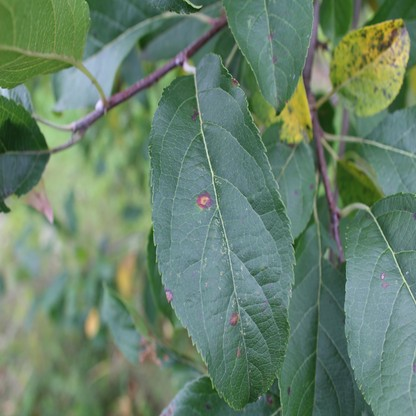frogeye_leaf_spot: (381, 272, 385, 279)
rust: (196, 192, 214, 210), (165, 288, 173, 302), (231, 312, 238, 326), (236, 348, 242, 357), (232, 77, 238, 85), (382, 282, 388, 289)
